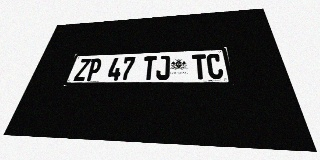4: (106, 57, 123, 81)
7: (119, 57, 136, 80)
C: (206, 53, 224, 79)
J: (155, 55, 170, 80)
P: (85, 58, 103, 81)
T: (192, 54, 208, 79), (142, 56, 157, 80)
Z: (73, 59, 91, 81)
